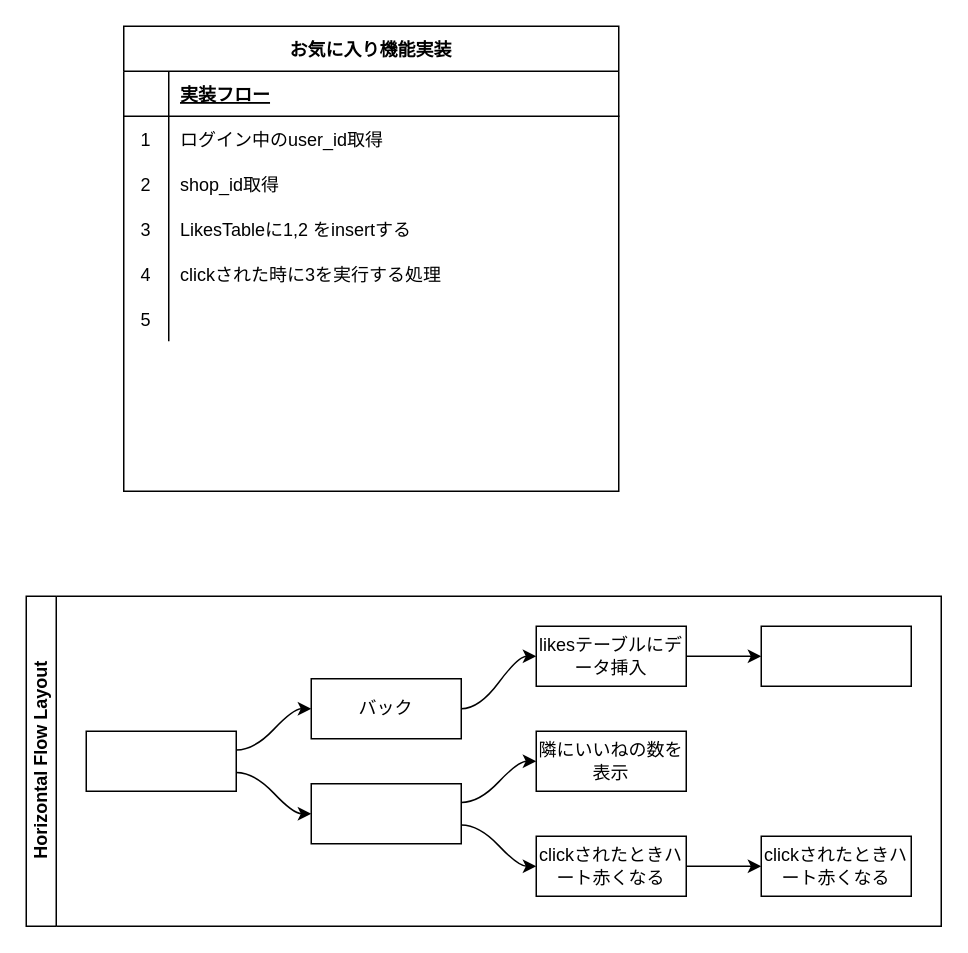
Some shapes in this 968 by 953 pixel diagram are drawn without their labels. The centre of each missing label's shape, as x and y in pixels:
user_idとshop_idを挿入: pixel 835 655
いいね機能: pixel 160 760
フロント: pixel 385 813
